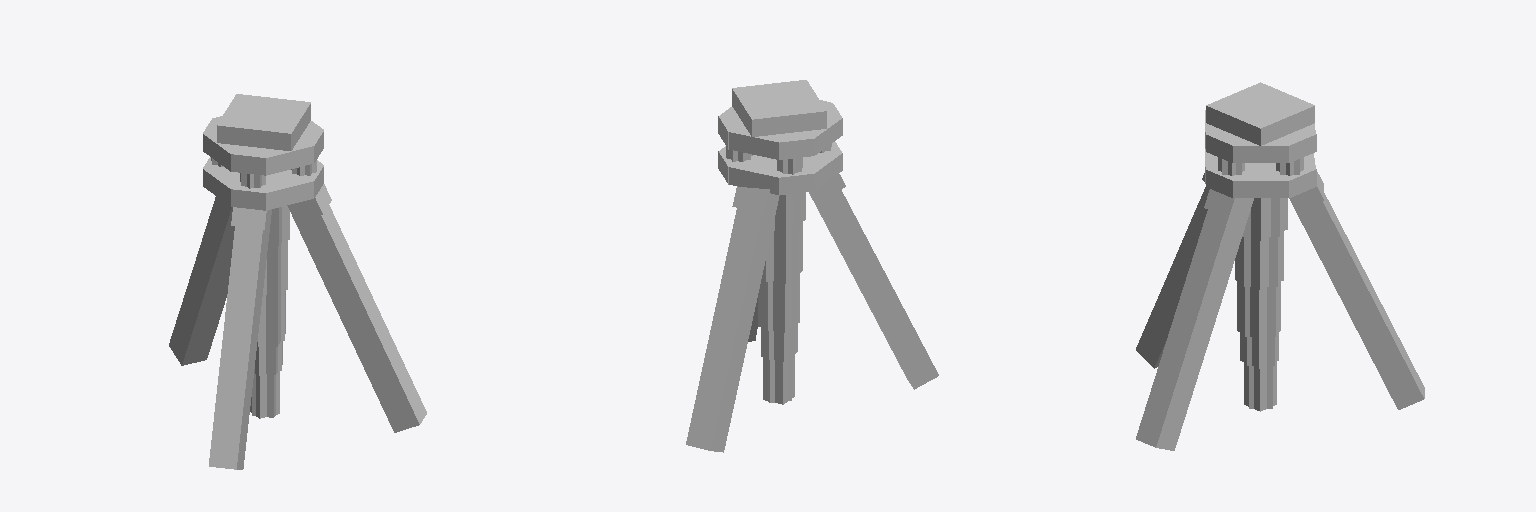
File: quarryoil.obj
3 renders of one model, left to right at view 1: azimuth 30°, elevation 25°; view 2: azimuth 150°, elevation 25°; view 3: azimuth 270°, elevation 25°, orthographic.
Parts seen in each view (by area): view 1: cube.039, cube.041, cube.040, cube.028, cube.013, cube.026, cube.025, cube.016, cube.012, cube.029, cube.024, cube.008 (+4 smaller); view 2: cube.040, cube.041, cube.028, cube.030, cube.032, cube.022, cube.014, cube.010, cube.038, cube.023, cube.016, cube.015 (+5 smaller); view 3: cube.039, cube.040, cube.028, cube.041, cube.031, cube.029, cube.017, cube.020, cube.033, cube.037, cube.009, cube.032 (+6 smaller).
Part boxes in pixels (x1,y1,x2,y2): cube.039: (287,203,426,432); cube.041: (209,209,271,469); cube.040: (169,196,234,365); cube.028: (217,94,310,150); cube.013: (266,175,313,210); cube.026: (266,139,313,175); cube.025: (231,147,270,175); cube.016: (203,165,239,206); cube.012: (231,181,270,210); cube.029: (266,291,285,346); cube.024: (203,130,246,171); cube.008: (231,207,270,229); cube.040: (686,195,779,452); cube.041: (809,185,938,389); cube.028: (732,80,826,136); cube.030: (758,273,799,332); cube.032: (762,222,802,283); cube.022: (729,126,778,159); cube.014: (729,163,778,194); cube.010: (732,186,776,214); cube.038: (763,357,794,404); cube.023: (774,131,814,159); cube.016: (806,150,842,190); cube.015: (774,166,814,194); cube.039: (1136,198,1253,450); cube.040: (1289,193,1424,409); cube.028: (1206,82,1314,145); cube.041: (1136,187,1209,368); cube.031: (1235,231,1283,289); cube.029: (1237,281,1280,339); cube.017: (1233,175,1288,197); cube.020: (1233,139,1288,162); cube.033: (1251,198,1287,240); cube.037: (1244,362,1276,411); cube.009: (1204,189,1247,219); cube.032: (1244,237,1277,286).
Size of the model in its own units: 0.8156 by 1.07 by 0.9327.